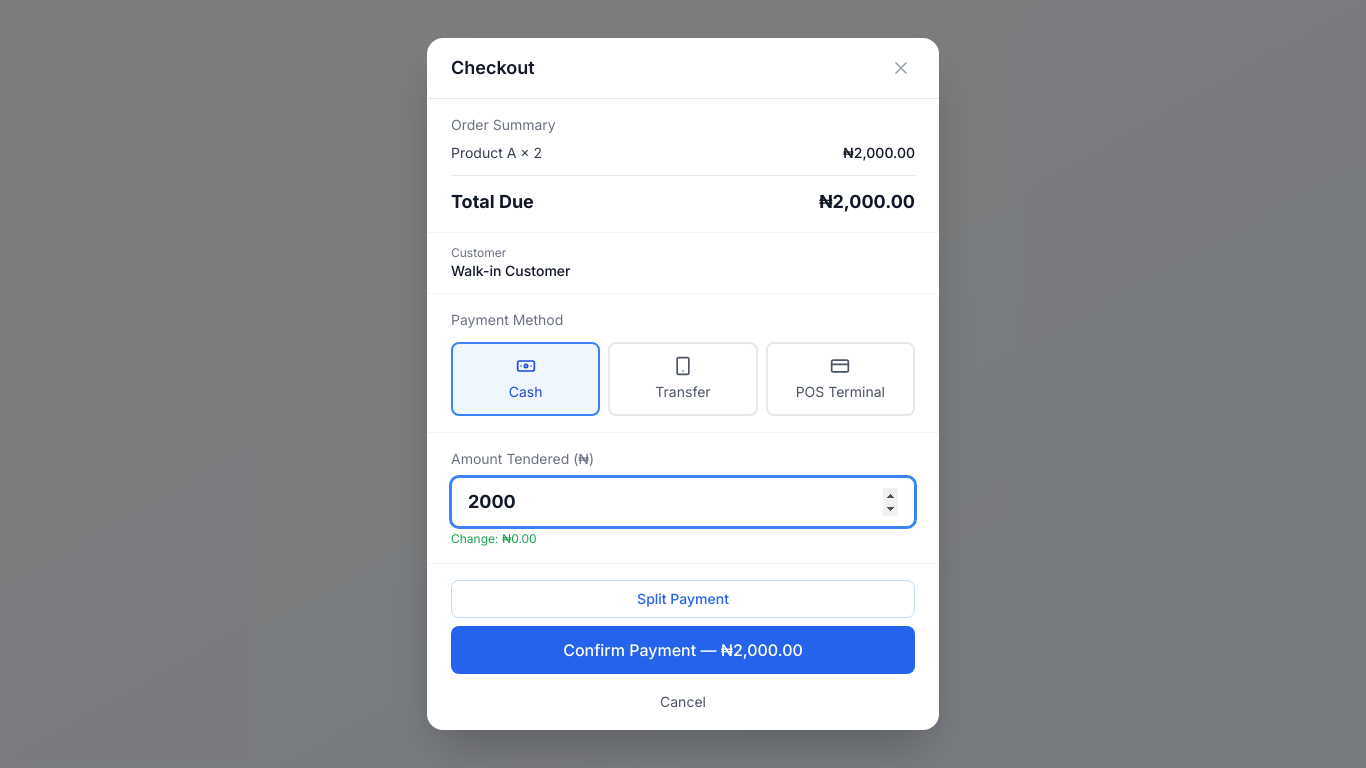
Test case: CheckoutModal › toggles split payment mode
Step 1. Click the button "Split Payment" → (683, 599), box [451,580,915,618]
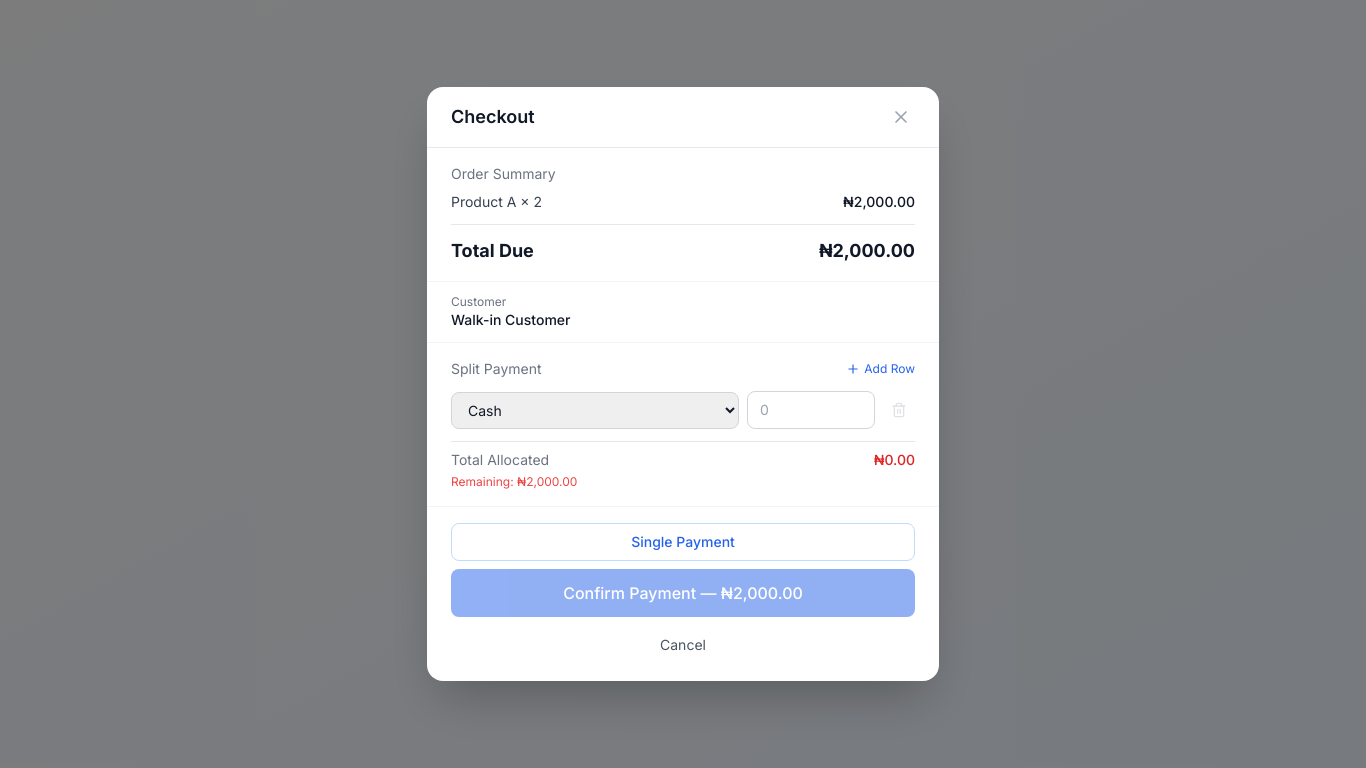
Now the button "Single Payment" is shown, box [451,523,915,561]
